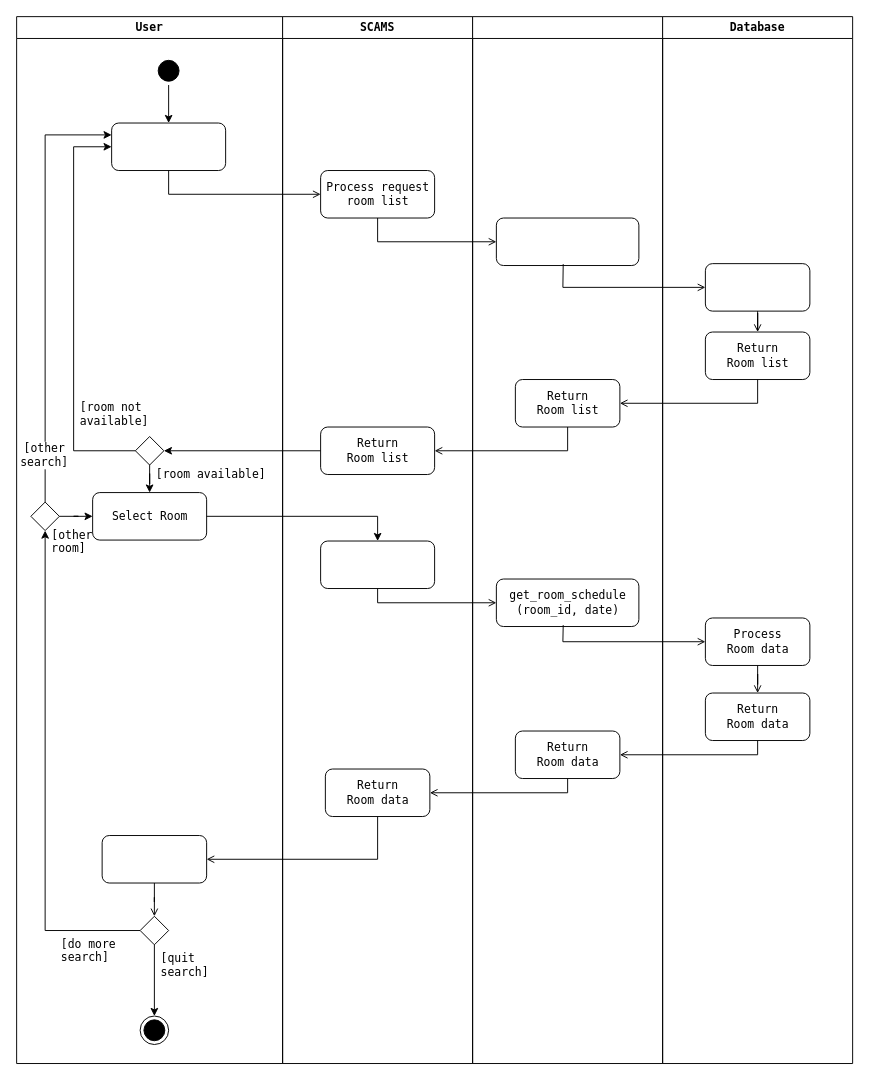
The diagram is 869 pixels wide and 1080 high, and some of its shapes have lost their labels. The box of each missing label's shape, as (x1, y1, x2, y2) in pixels:
Enter search criteria: (111, 122, 226, 171)
Get List of Room: (495, 217, 639, 266)
Process request room info: (320, 540, 435, 589)
Process Room list: (704, 263, 810, 311)
ROMS: (472, 16, 663, 1064)
View Room Information: (101, 835, 207, 883)
